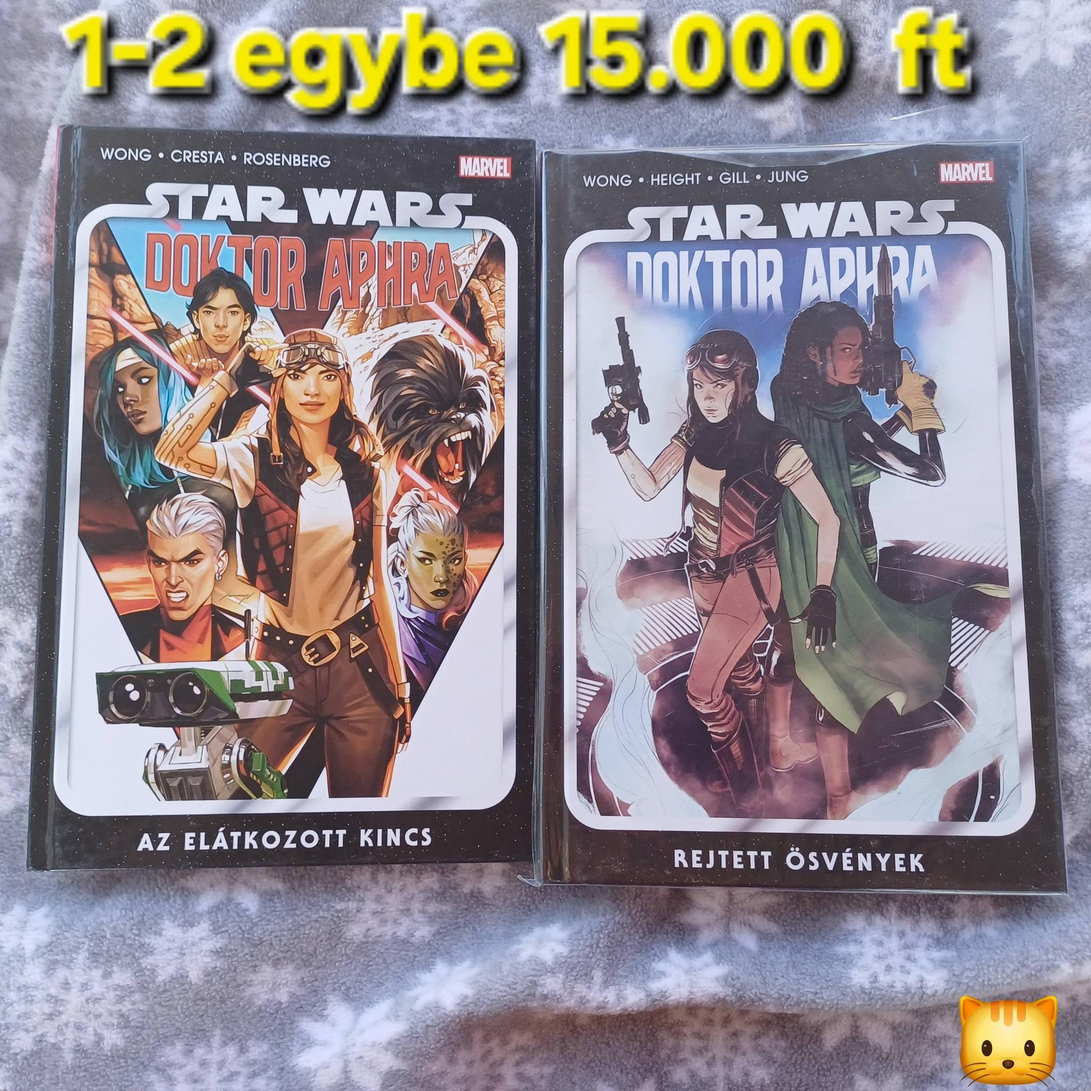comic: (527, 143, 1065, 898), (29, 127, 545, 878)
